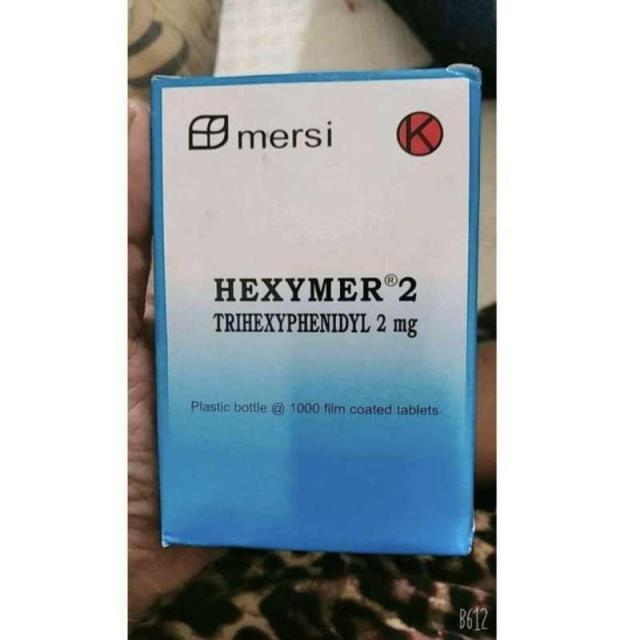drug-name: (211, 274, 422, 304)
